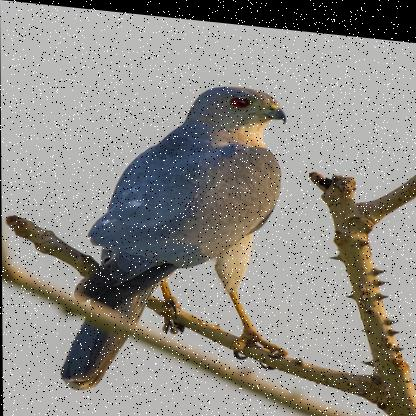Burung: (60, 66, 289, 405)
